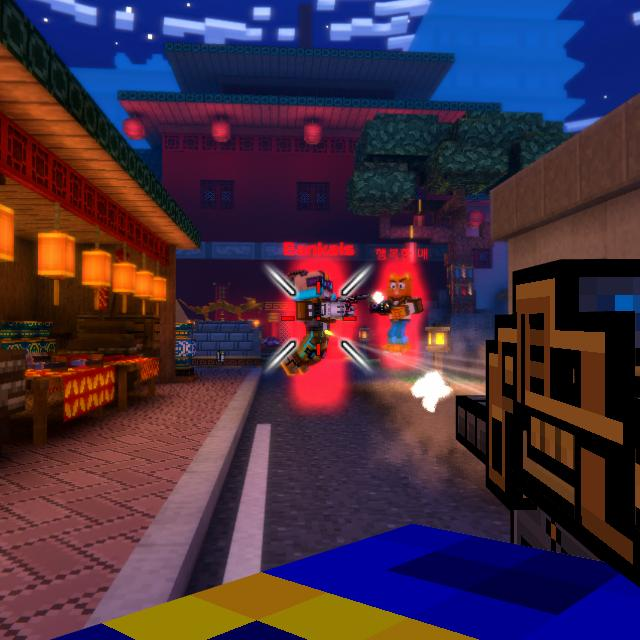Enemy: (283, 271, 353, 377), (368, 273, 421, 354)
